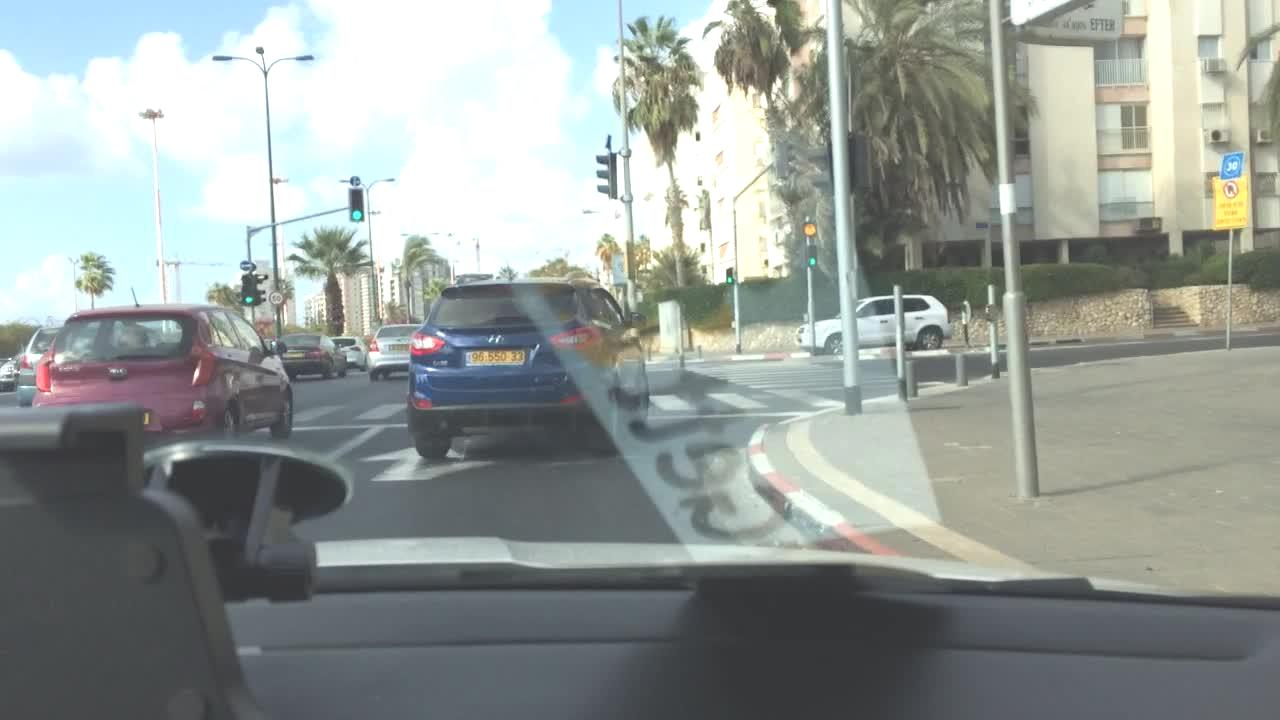Hyundai: (477, 323, 511, 348)
kia: (107, 365, 129, 379)
